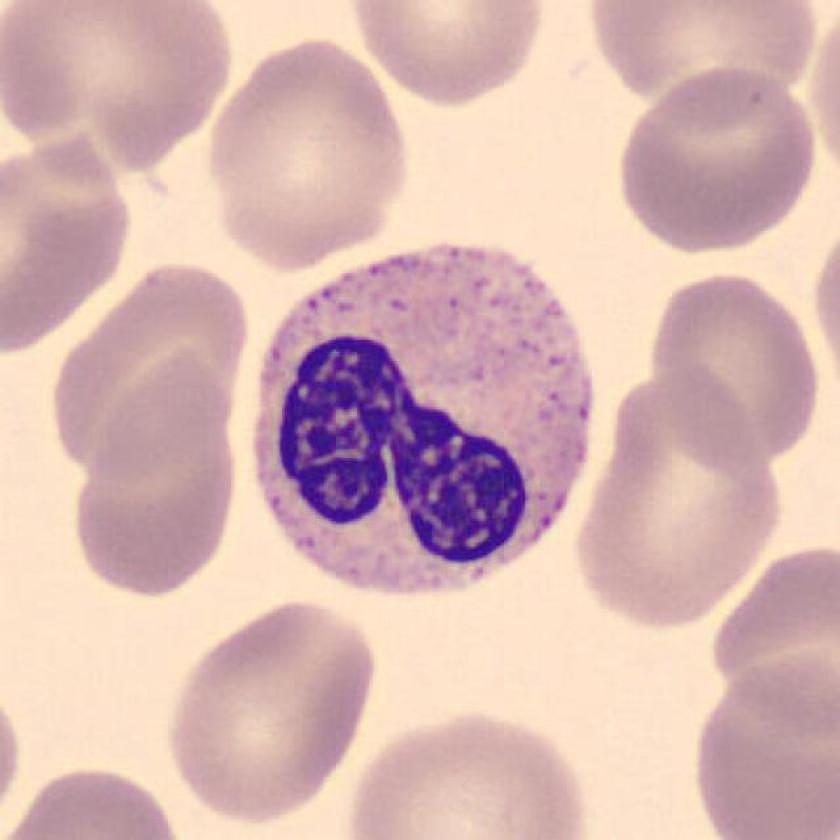neutrophil: (255, 243, 596, 600)
